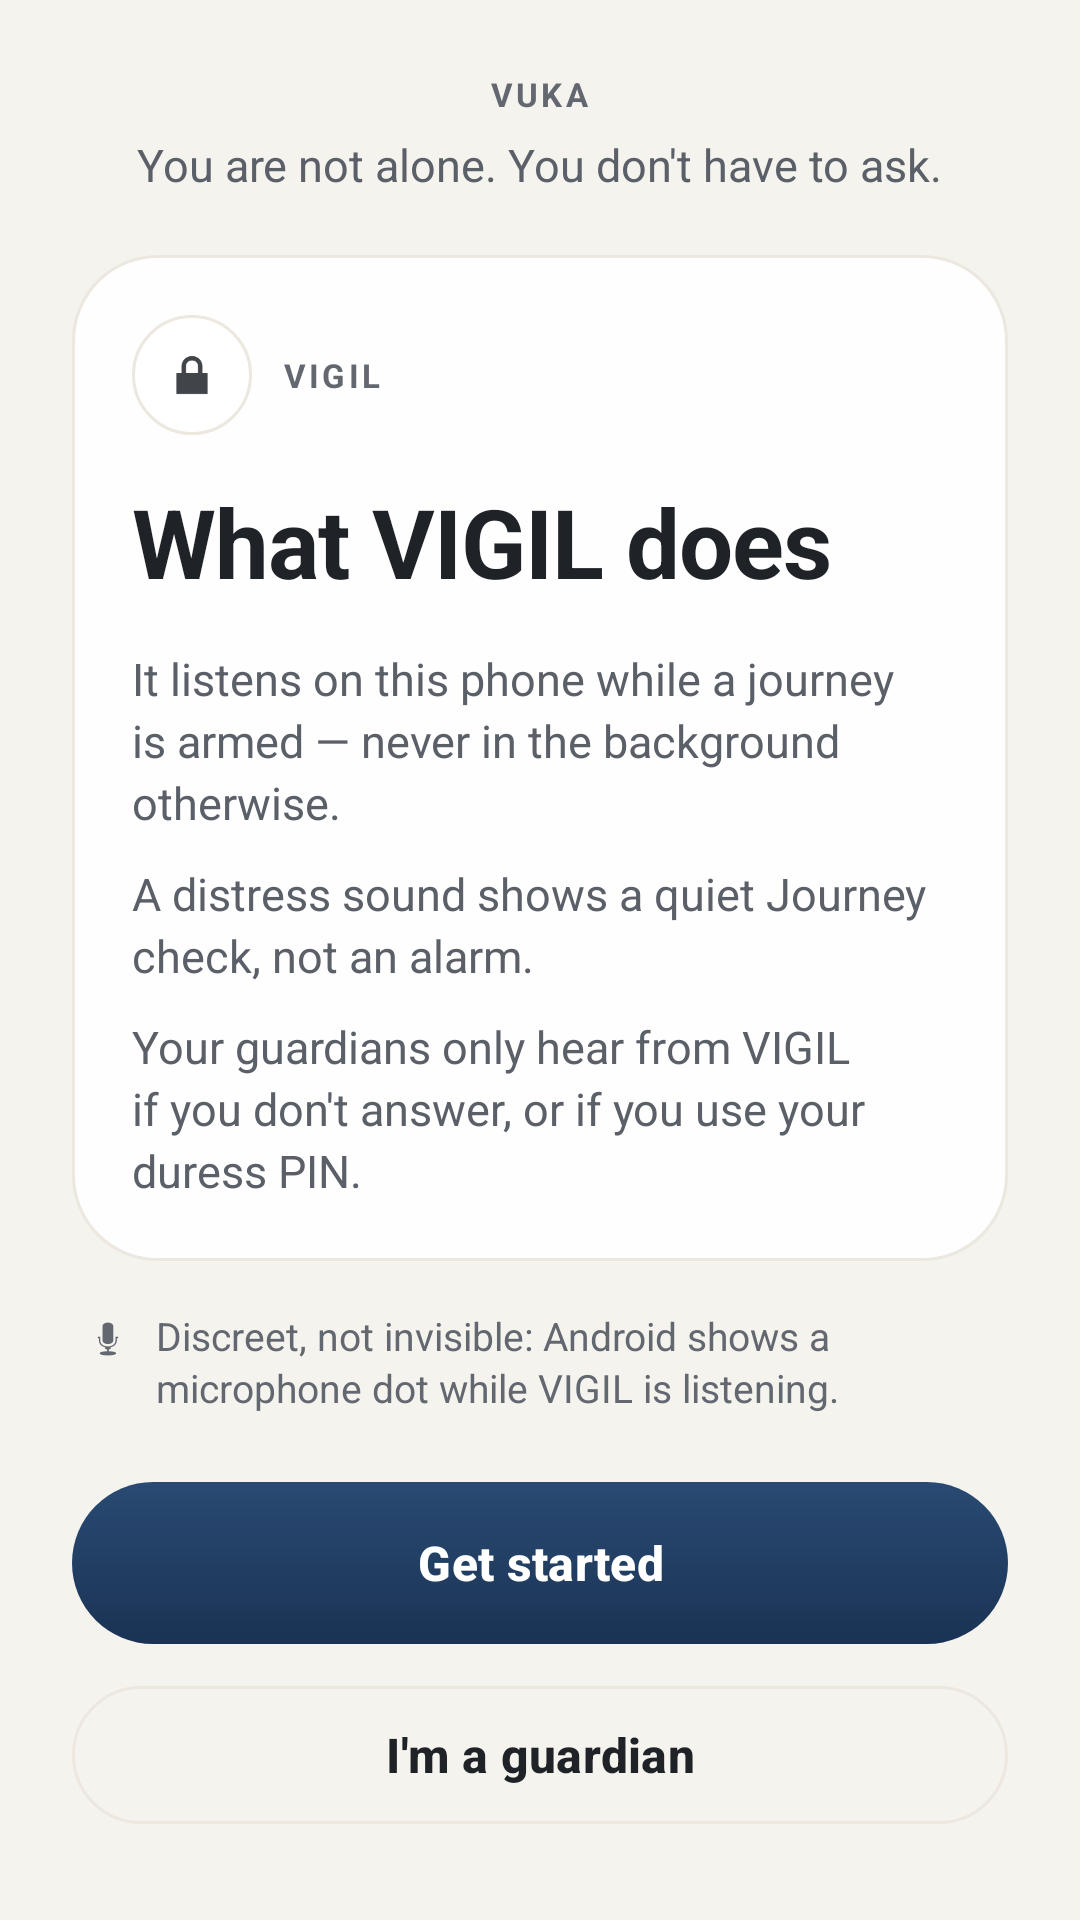

Screen size 1080 x 1920. Icon name, then its box in pixels as (x1, y1, x2, y2):
lock: (176, 356, 208, 394)
speak now: (97, 1322, 118, 1356)
